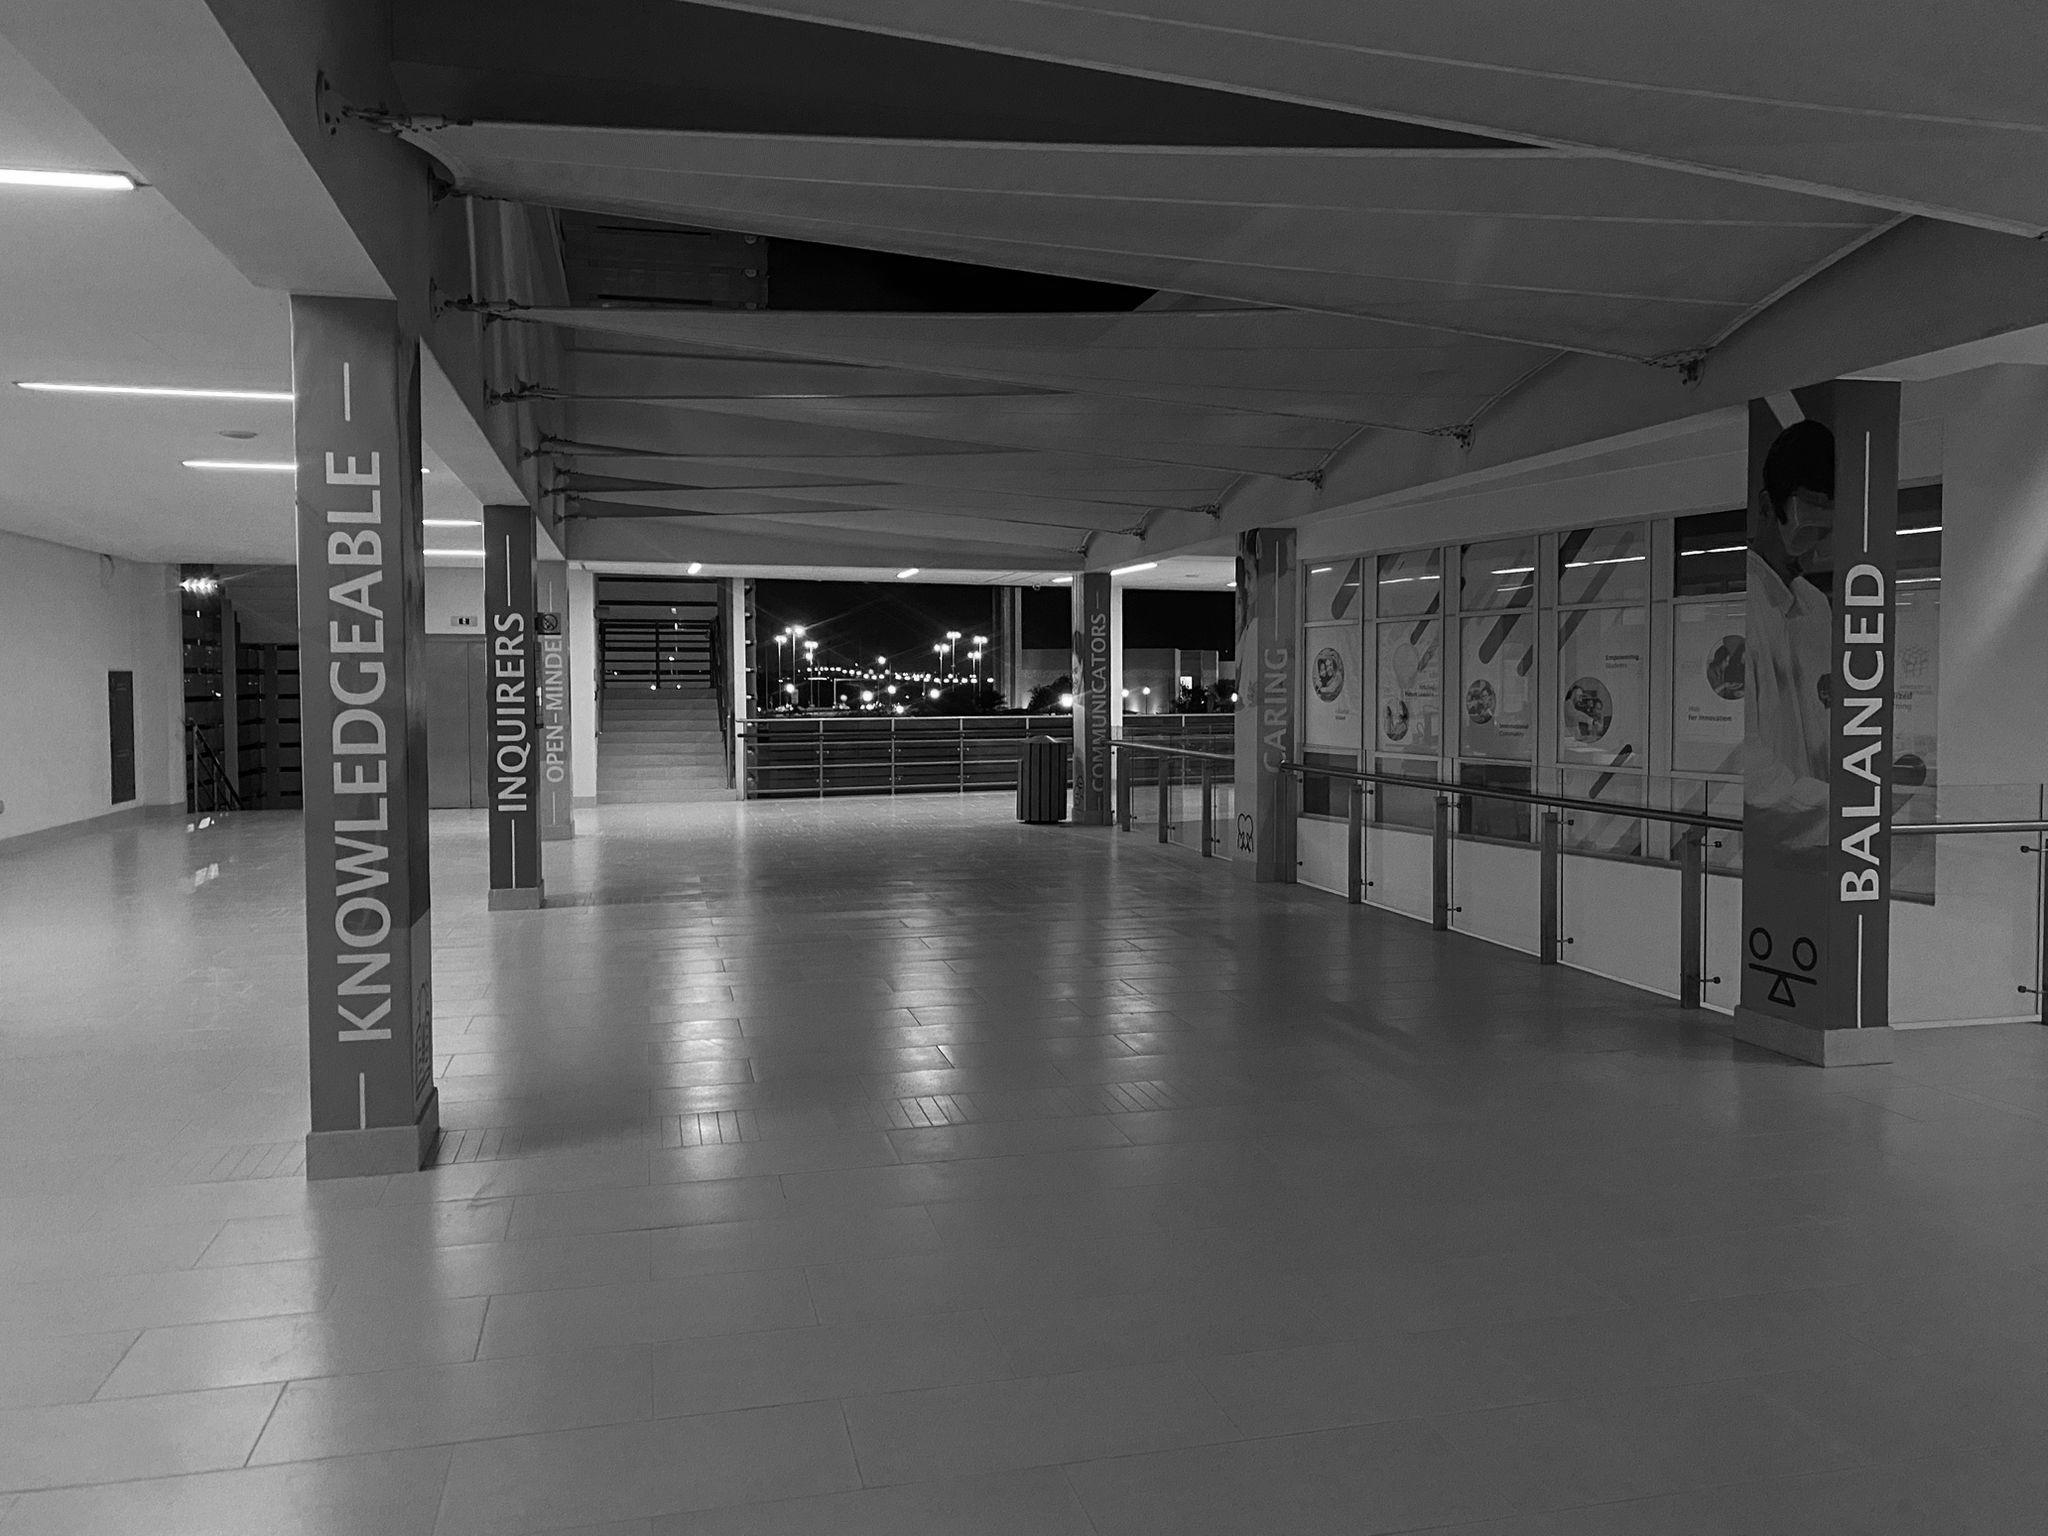Pillar: (293, 295, 439, 1176), (1738, 381, 1900, 1065), (481, 505, 552, 908), (1238, 529, 1297, 879), (1072, 573, 1116, 816), (535, 561, 572, 839)
Wall: (1901, 366, 2046, 818), (1300, 411, 1745, 557), (0, 532, 182, 842), (1892, 833, 2040, 1026), (1555, 850, 1680, 995), (1450, 839, 1543, 954), (1363, 826, 1434, 921), (1703, 874, 1738, 1012), (1297, 815, 1347, 895)
